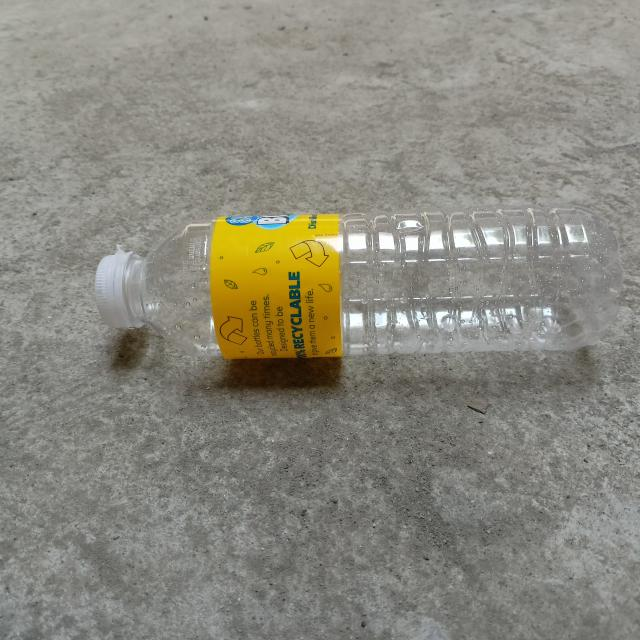Bottle: (96, 207, 622, 359), (636, 459, 640, 471)
